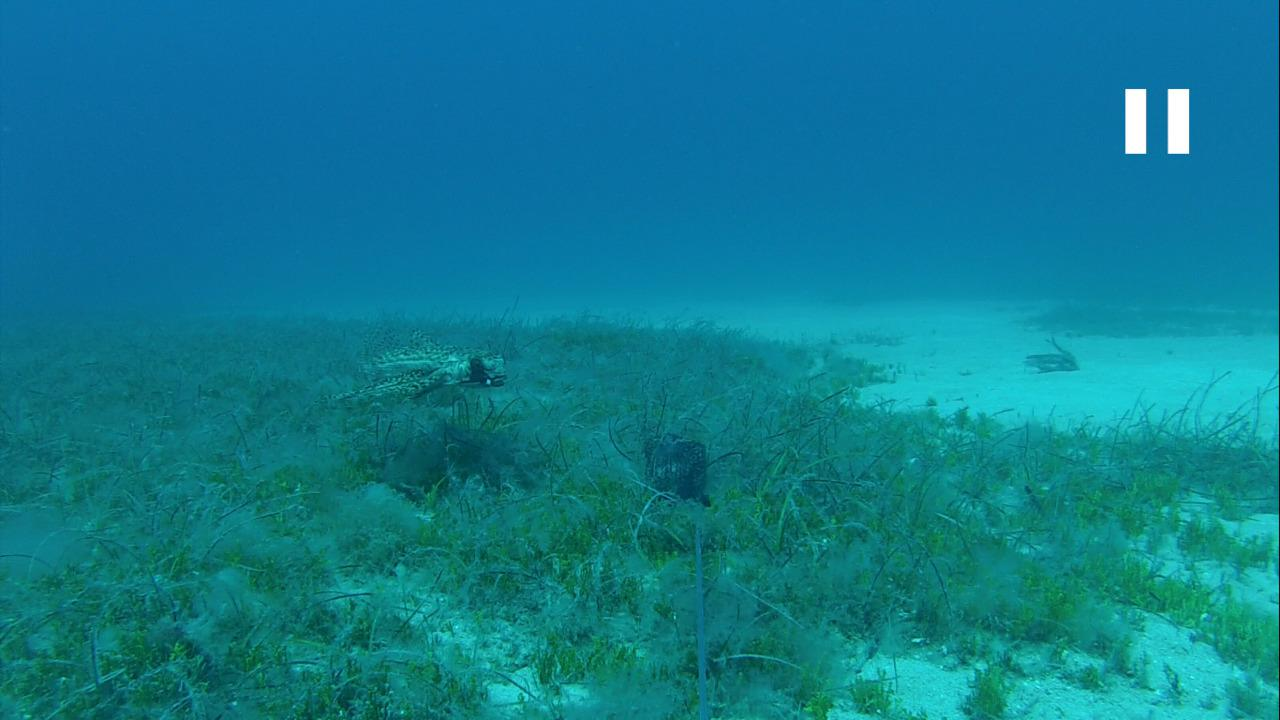dactylopterus: (301, 329, 506, 409)
